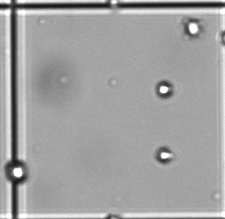Living Cell: (6, 161, 27, 183), (184, 18, 201, 37), (157, 81, 173, 97), (156, 148, 172, 164)
